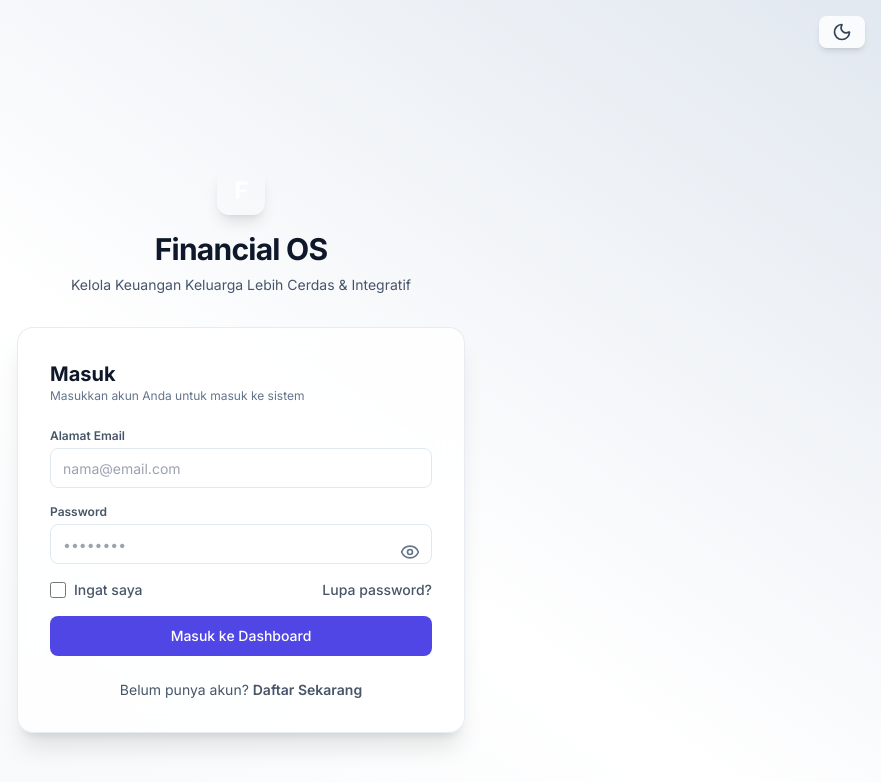
LoginPage component › shows validation errors for invalid inputs
This screenshot has width=881, height=782.
Type "invalid-email" into the field with placeholder "nama@email.com" at [241, 468], box [50,448,432,488]
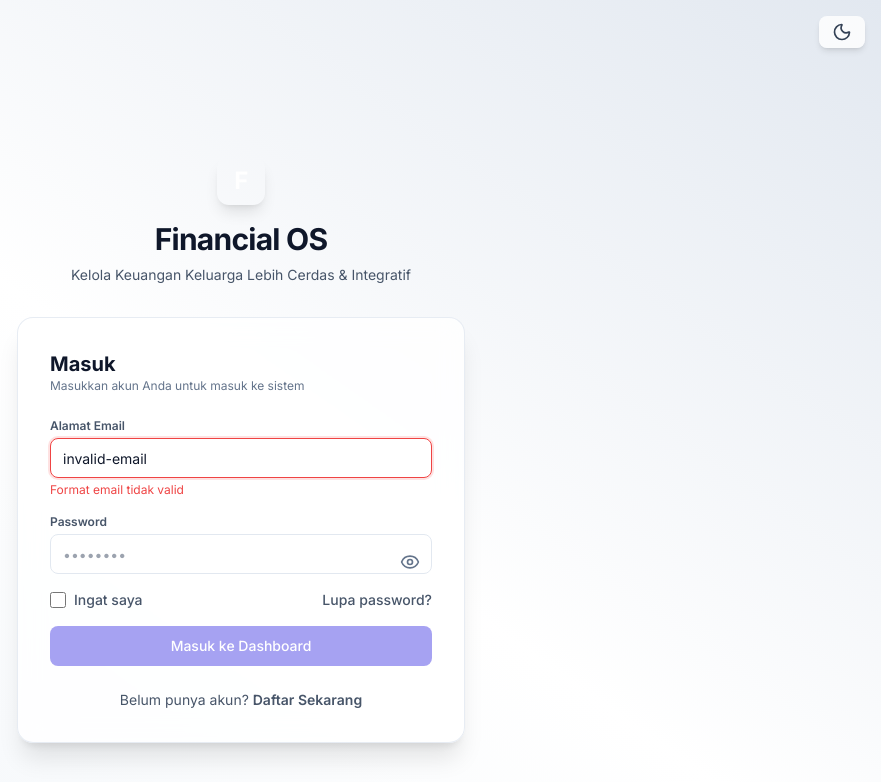
Expected: the text "Format email tidak valid" is shown, [50,482,184,497]
